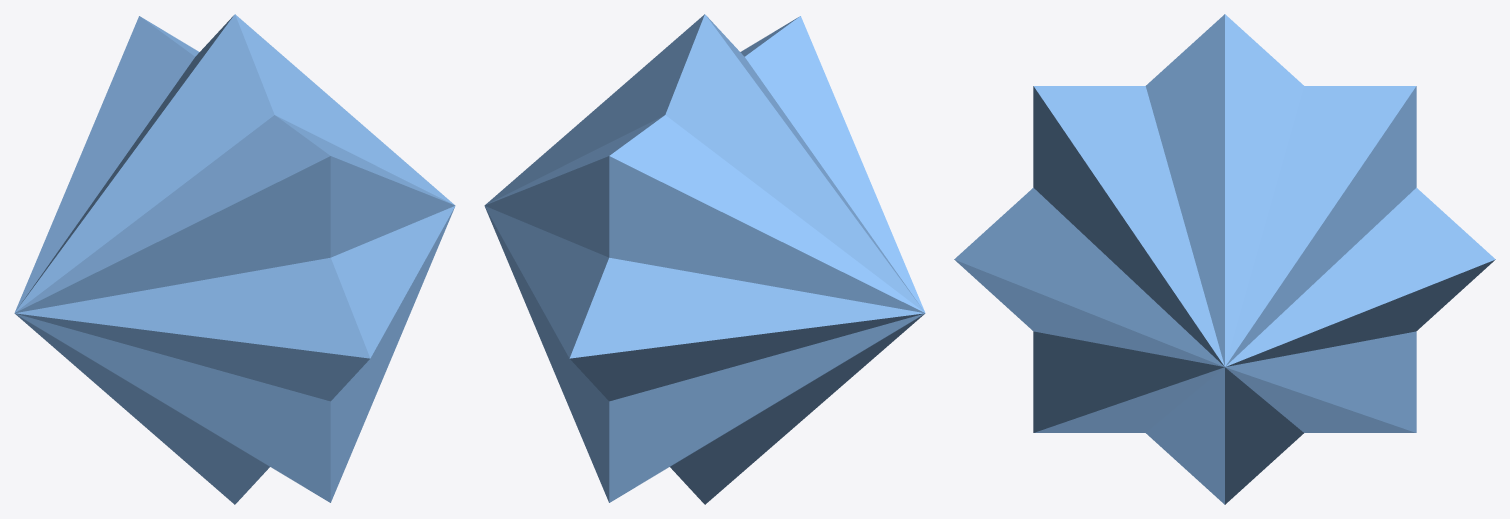
Rendered from item_essence_luck.fbx.
3 views of the same model, side by side, from view 1: azimuth 30°, elevation 25°; view 2: azimuth 150°, elevation 25°; view 3: azimuth 270°, elevation 25° (orthographic).
Visible parts, largest first — view 1: Plane; view 2: Plane; view 3: Plane.
Part boxes in pixels (left/top/right/bottom): Plane: left=14, top=14, right=455, bottom=504; Plane: left=484, top=14, right=925, bottom=504; Plane: left=954, top=14, right=1495, bottom=504.
Size of the model in its own units: 266 by 283 by 283.
